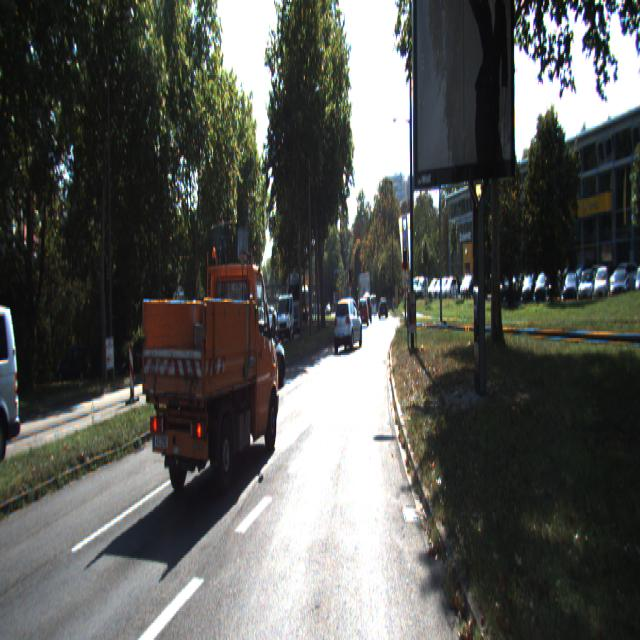Car: (136, 234, 282, 505), (233, 314, 287, 398), (0, 298, 25, 461), (188, 313, 229, 385), (333, 300, 362, 354), (276, 292, 294, 341), (336, 302, 356, 345), (359, 298, 369, 327)
